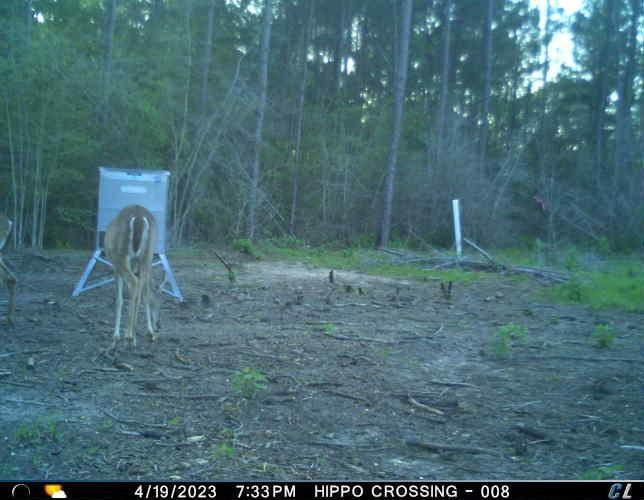Deer: (100, 202, 161, 351), (0, 206, 23, 336)
